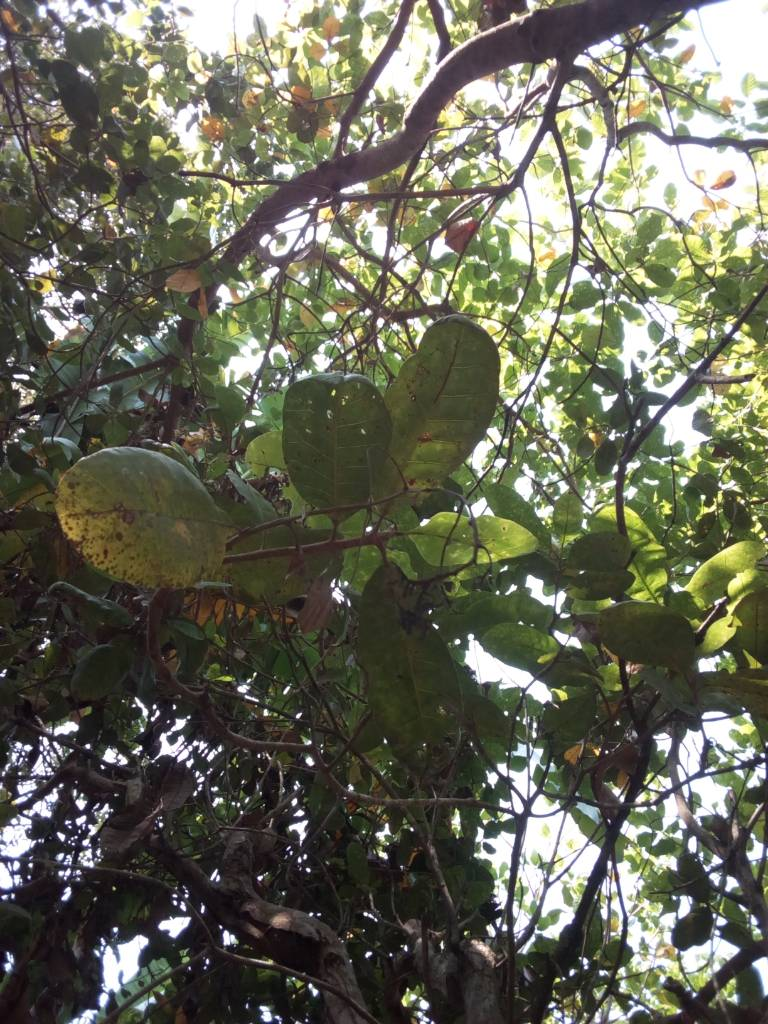Anthracnose: (54, 447, 229, 591), (386, 317, 504, 494), (280, 366, 393, 527)
